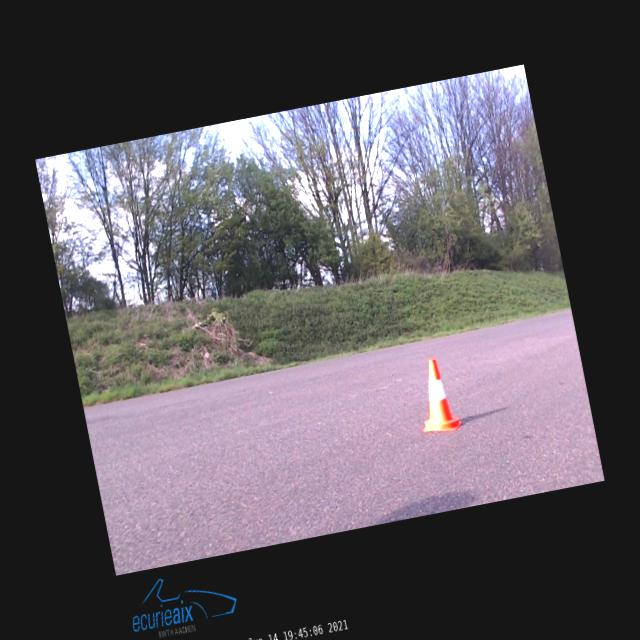orange_cone: (410, 356, 462, 436)
